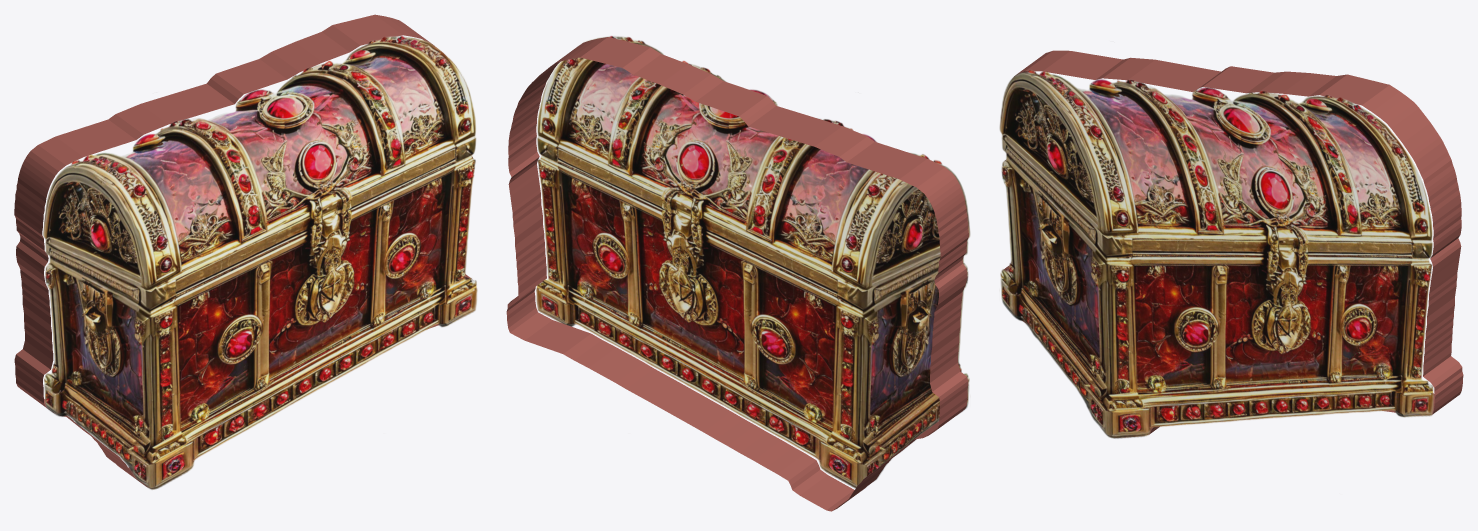
File: Ruby_Chest_Light.glb
The picture shows the model from 3 angles, left to right: view 1: azimuth 30°, elevation 25°; view 2: azimuth 150°, elevation 25°; view 3: azimuth 330°, elevation 25°; orthographic projection.
Parts seen in each view (by area): view 1: Ruby_Chest_Light; view 2: Ruby_Chest_Light; view 3: Ruby_Chest_Light.
Boxes of the visible parts, bbox=[...] form: Ruby_Chest_Light: bbox=[14, 14, 477, 489]; Ruby_Chest_Light: bbox=[506, 36, 970, 511]; Ruby_Chest_Light: bbox=[999, 50, 1463, 438].
Size of the model in its own units: 1.8 by 1.57 by 0.21.
2 materials, 1 textured.
